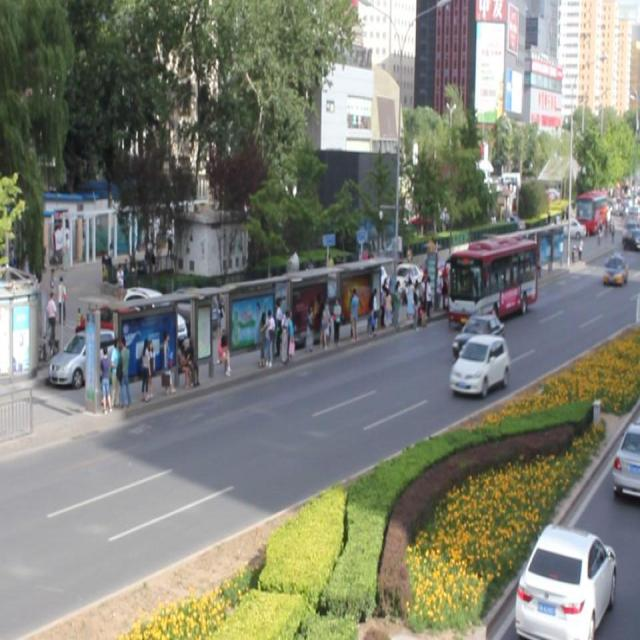car: (448, 334, 510, 395), (450, 310, 504, 362)
van: (448, 235, 537, 321)
